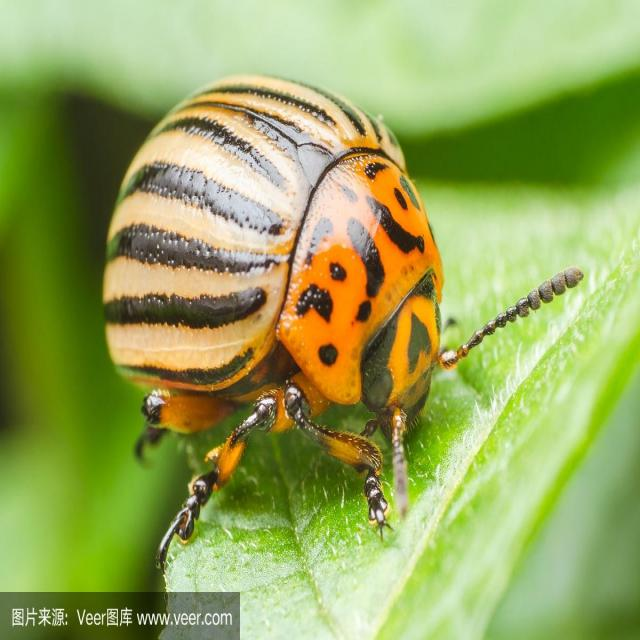ShuCaiHuaBanChong-Grown-: (100, 70, 475, 484)
